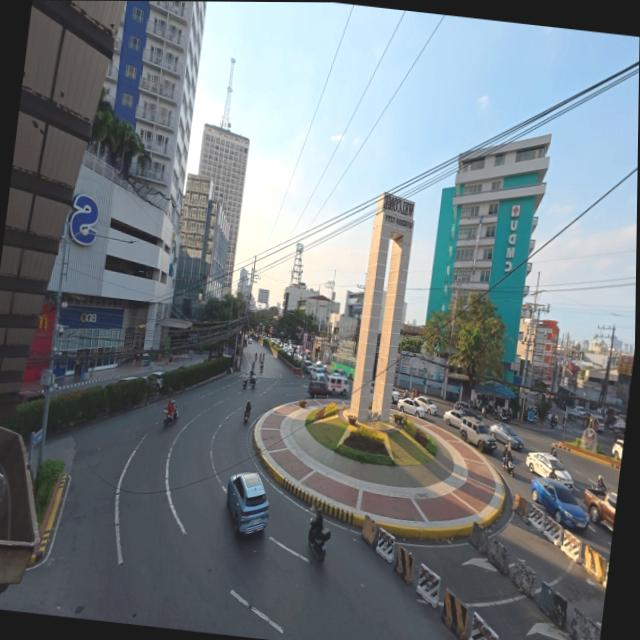bus: (331, 354, 355, 380)
car: (530, 478, 587, 529), (226, 472, 268, 535), (525, 452, 572, 488), (489, 423, 522, 449), (454, 401, 482, 420), (396, 399, 425, 417), (414, 396, 436, 414), (443, 408, 463, 427), (17, 390, 43, 404), (307, 380, 327, 398), (610, 438, 625, 460), (143, 371, 162, 388), (590, 416, 603, 433), (114, 375, 137, 383), (302, 359, 312, 373), (574, 406, 586, 415), (391, 390, 399, 403), (332, 369, 345, 377), (315, 361, 326, 370), (247, 338, 251, 344)
motorcycle: (307, 519, 330, 562), (163, 408, 177, 425), (497, 408, 509, 423), (502, 461, 513, 477), (243, 411, 249, 423), (241, 379, 246, 390), (250, 378, 254, 389), (259, 364, 263, 372)
trucks: (583, 487, 616, 530)
vans: (460, 417, 495, 452), (326, 375, 347, 397)
